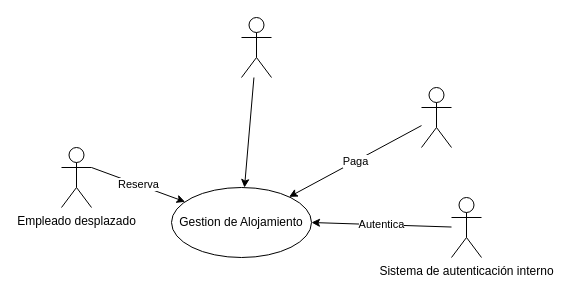
Image size: 571x296. Some labels were removed from this diagram. Here are the shapes that lost their labels. From the top down, the box of each, then its label:
(240, 16, 272, 78): Mantenimiento
(420, 86, 452, 148): LogiRail Contabilidad
